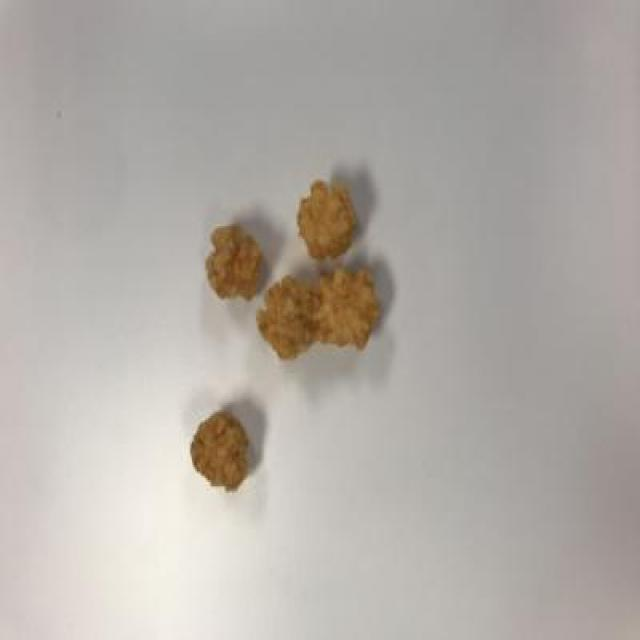compost: (187, 158, 397, 509)
